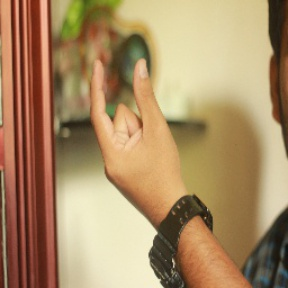U: (89, 47, 175, 184)
